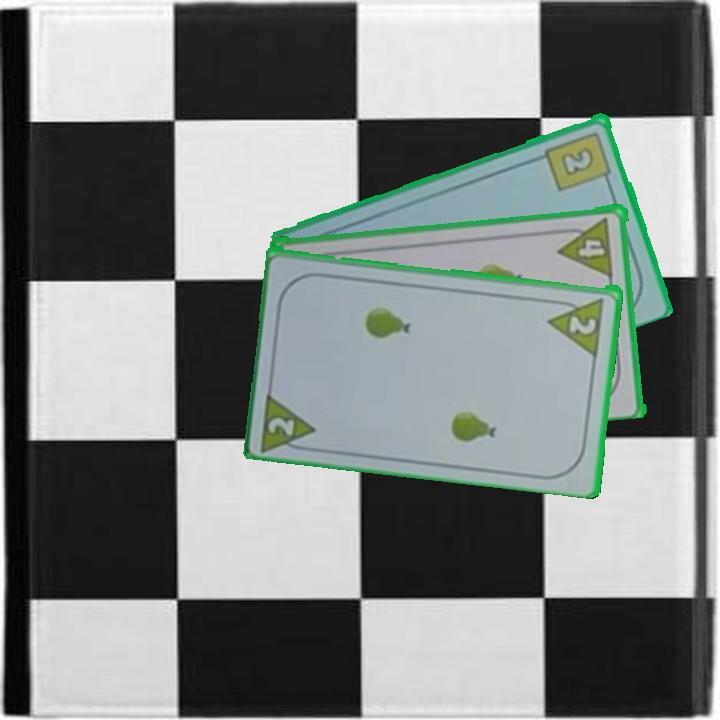2b: (542, 127, 615, 194)
2p: (257, 386, 320, 454), (565, 309, 600, 337)
4p: (555, 213, 616, 279)
